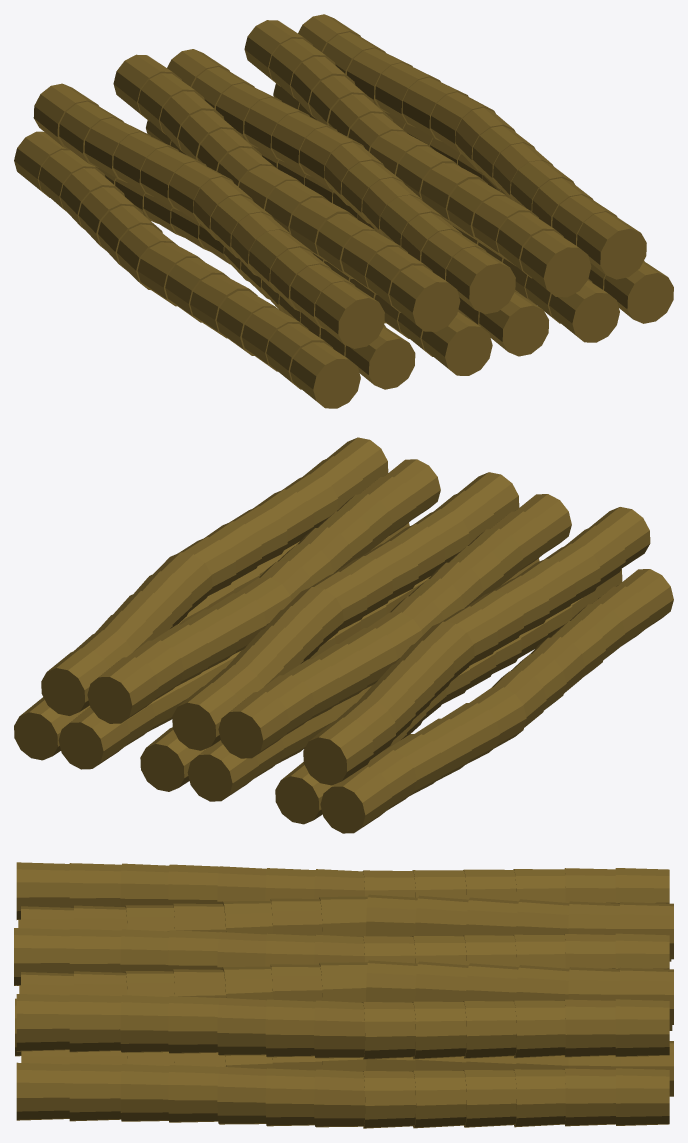
The model's file is PalmiyeKutugu.fbx.
The picture shows the model from 3 angles, top to bottom: view 1: azimuth 30°, elevation 25°; view 2: azimuth 150°, elevation 25°; view 3: azimuth 270°, elevation 25°; orthographic projection. The views are drawn at different scales.
Parts seen in each view (by area): view 1: Cylinder.363; view 2: Cylinder.363; view 3: Cylinder.363.
Boxes of the visible parts, x1,y1,x2,y2 form: Cylinder.363: (14, 14, 673, 408); Cylinder.363: (14, 437, 673, 833); Cylinder.363: (14, 862, 673, 1128).
Size of the model in its own units: 62.02 by 16.7 by 84.6.
